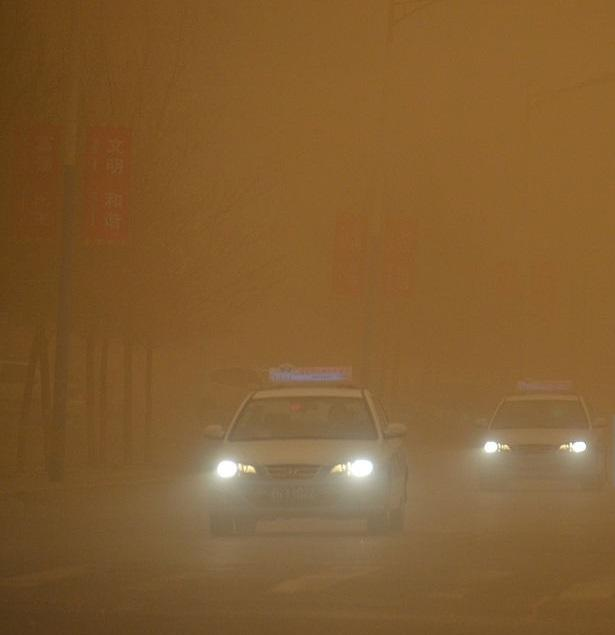car: (203, 376, 410, 527), (401, 387, 600, 517), (468, 388, 602, 481), (196, 372, 340, 441), (175, 414, 256, 536), (204, 361, 353, 410), (361, 389, 410, 536), (493, 377, 603, 435), (556, 396, 610, 487), (200, 367, 269, 433), (512, 376, 588, 418), (481, 382, 570, 415), (577, 417, 612, 488), (204, 365, 268, 396), (509, 378, 579, 402), (470, 432, 509, 457), (516, 378, 570, 393), (480, 439, 508, 454)
frisbee: (264, 364, 349, 385)
keyboard: (265, 366, 350, 386)
motorcycle: (203, 376, 410, 527)
person: (466, 387, 602, 479), (286, 402, 306, 435)
remote: (265, 366, 350, 386)
skis: (469, 388, 604, 482)
truck: (207, 375, 409, 528), (471, 387, 605, 480)
